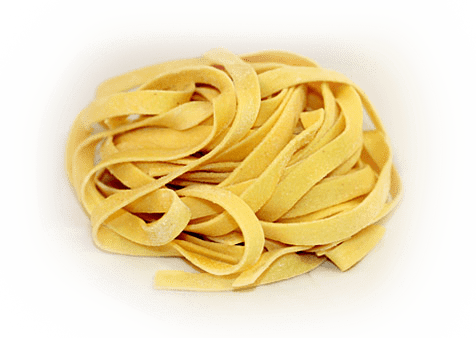plain spaghetti: (123, 82, 369, 224)
